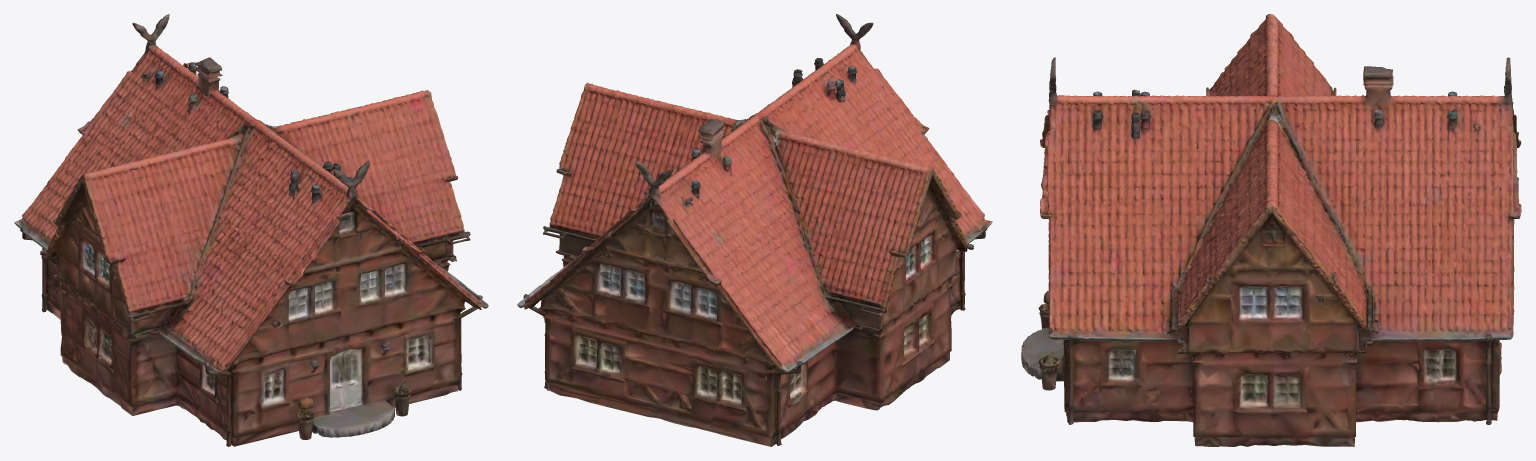
File: building13.glb
The picture shows the model from 3 angles, left to right: view 1: azimuth 30°, elevation 25°; view 2: azimuth 150°, elevation 25°; view 3: azimuth 270°, elevation 25°; orthographic projection. The views are drawn at different scales.
Size of the model in its own units: 1.76 by 1.24 by 1.92.
1 material, 1 textured.
